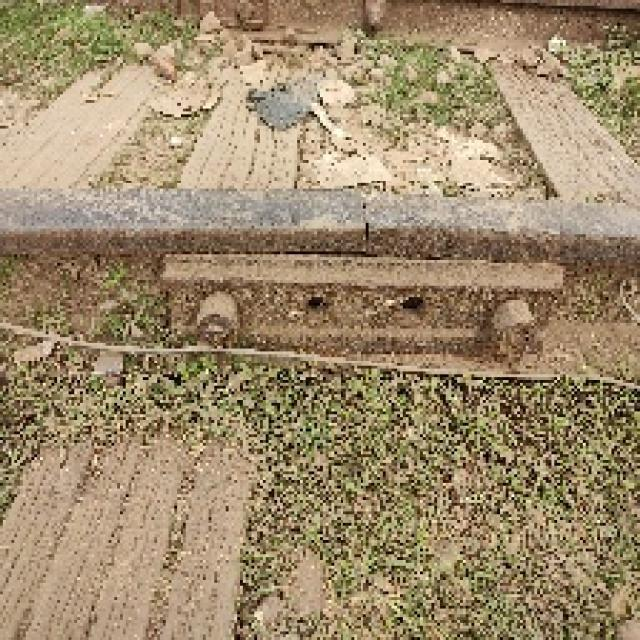Defective Joint: (168, 251, 579, 353)
